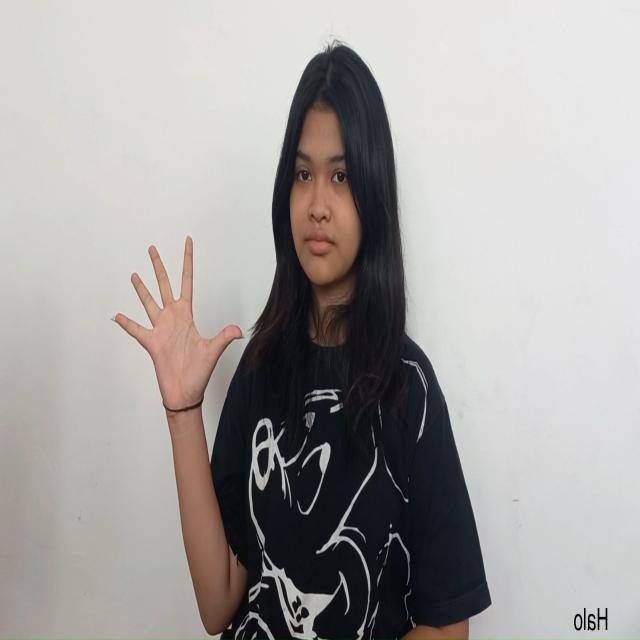Halo -BISINDO-: (112, 236, 244, 425)
